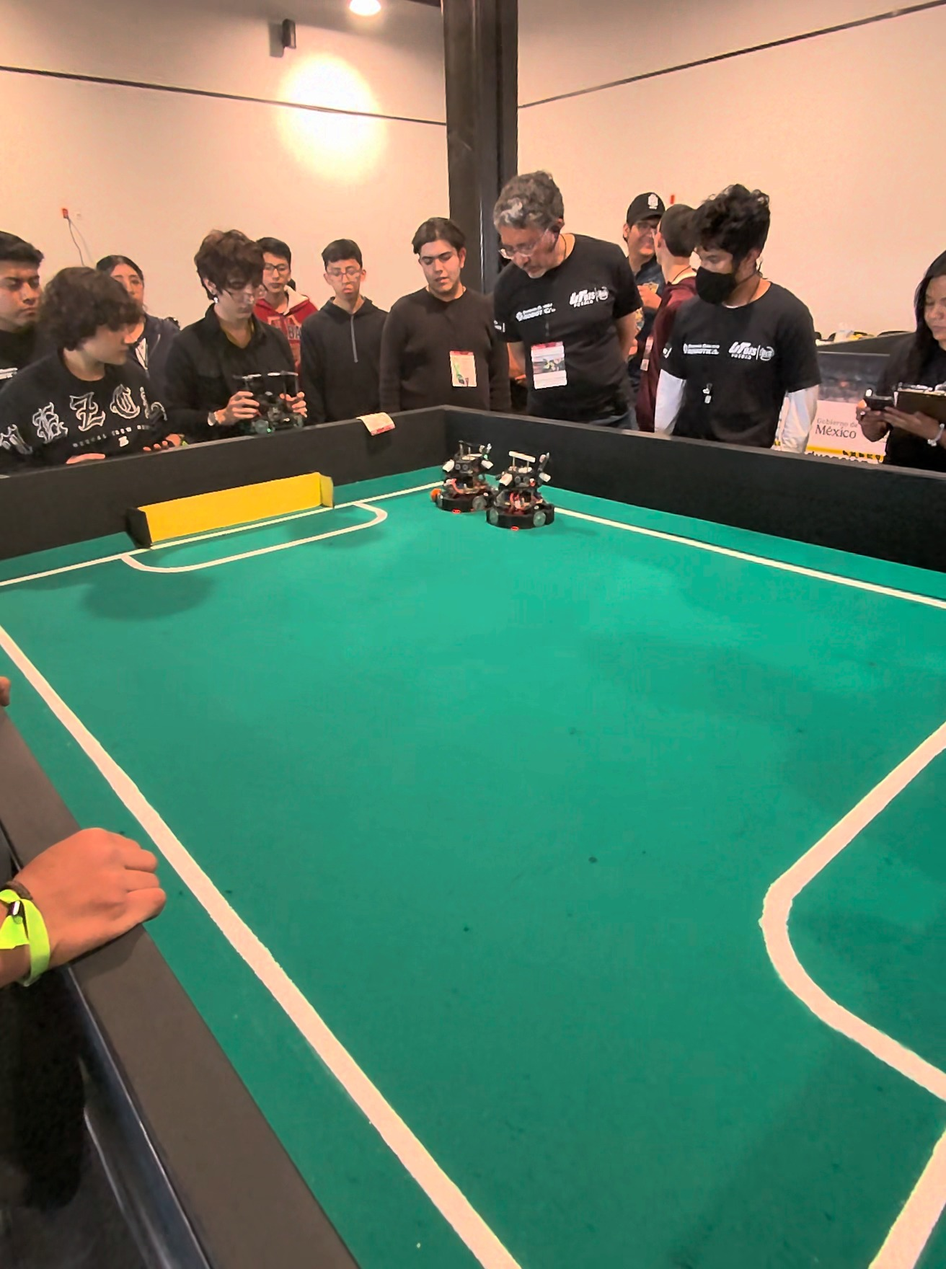Robot: (491, 447, 557, 535), (432, 434, 498, 517)
